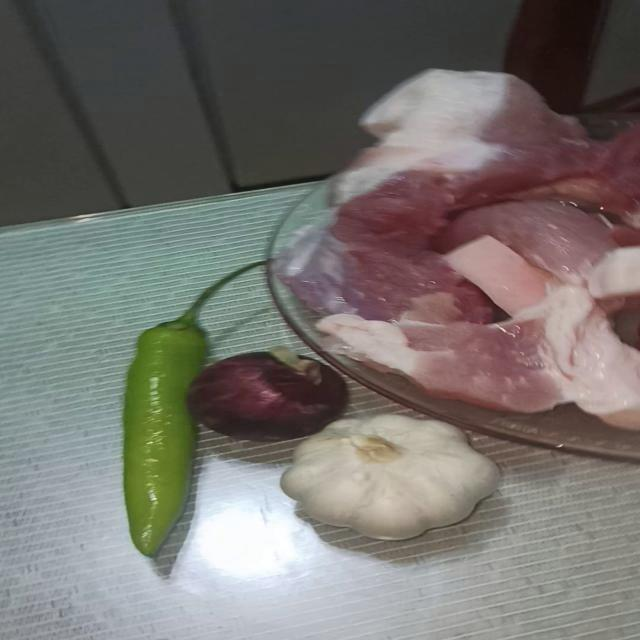chili_pepper: (62, 302, 261, 570)
garlic: (267, 398, 501, 540)
onion: (196, 355, 359, 445)
pork: (320, 292, 640, 410), (459, 162, 628, 363), (335, 60, 578, 193), (302, 132, 516, 252), (255, 225, 477, 325)
